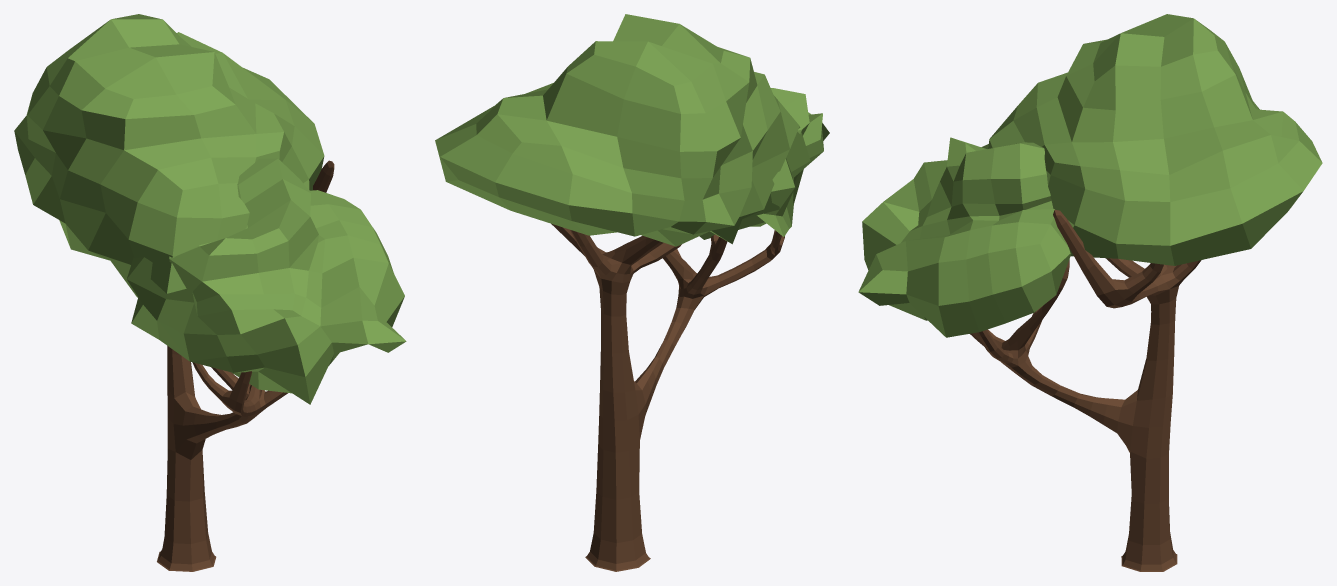
File: feuillu_large_2.glb
The picture shows the model from 3 angles, left to right: view 1: azimuth 30°, elevation 25°; view 2: azimuth 150°, elevation 25°; view 3: azimuth 270°, elevation 25°; orthographic projection. The views are drawn at different scales.
Parts seen in each view (by area): view 1: feuillu_large_2; view 2: feuillu_large_2; view 3: feuillu_large_2.
Part boxes in pixels (x1,y1,x2,y2): feuillu_large_2: (14, 14, 406, 571); feuillu_large_2: (435, 14, 829, 571); feuillu_large_2: (858, 14, 1322, 571).
Bounding box in the file's own units: 6.66 × 12.5 × 10.17.
